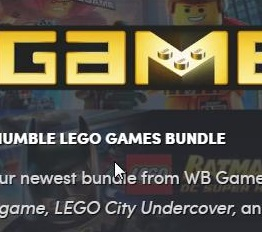cursor: (113, 160, 126, 181)
